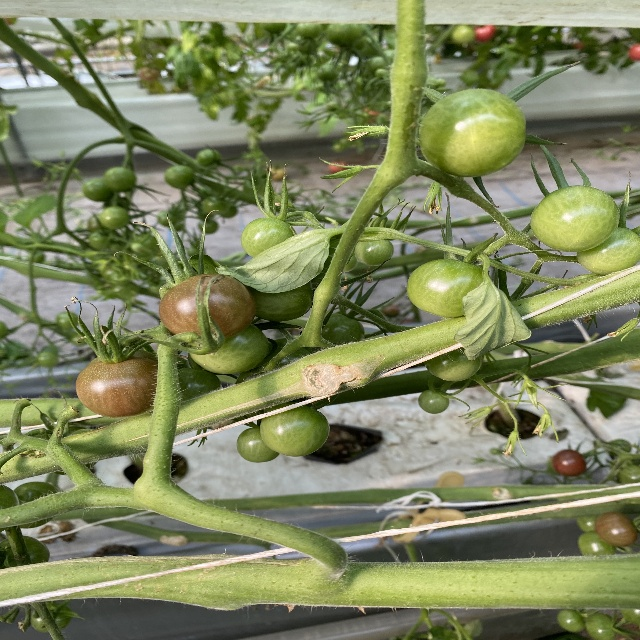l_green: (417, 89, 527, 178), (529, 184, 620, 253), (407, 259, 490, 318), (189, 324, 270, 374), (259, 406, 329, 457), (577, 225, 639, 276), (244, 281, 314, 321), (303, 313, 364, 354), (14, 481, 63, 528), (240, 218, 298, 257), (426, 347, 482, 381), (178, 368, 221, 404), (237, 426, 280, 462), (3, 536, 49, 568), (168, 259, 220, 287), (27, 601, 72, 632), (354, 235, 394, 266), (417, 387, 449, 414)
l_half_ripened: (158, 274, 256, 343), (76, 358, 158, 418)
